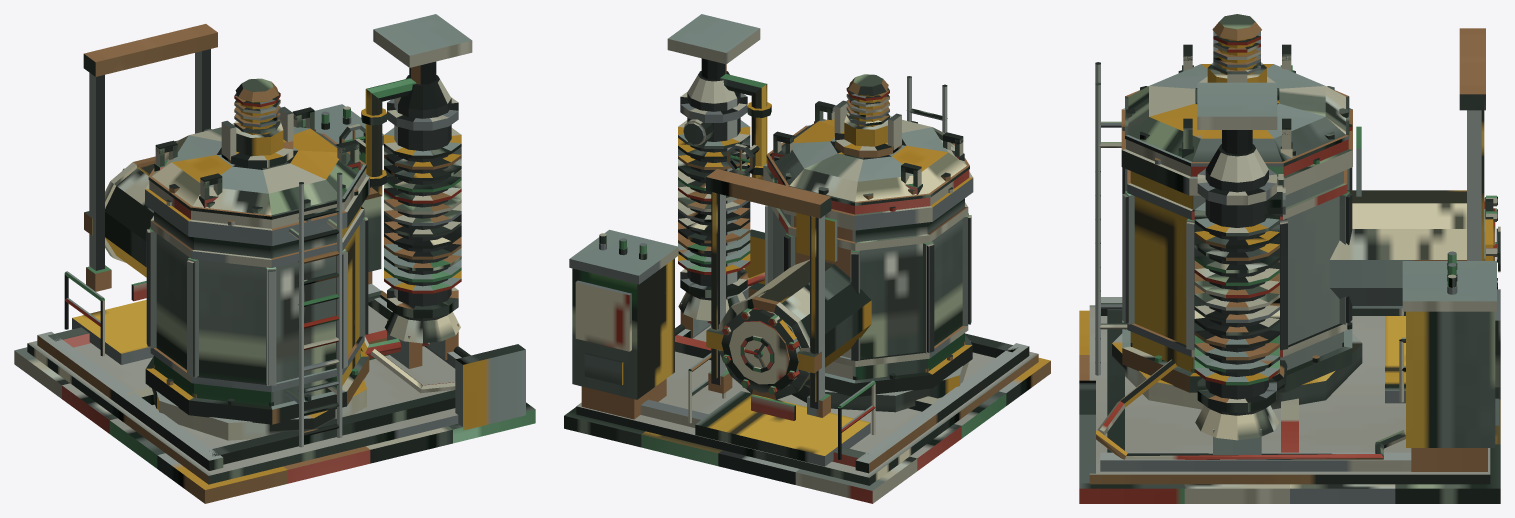
The model's file is irradiation_reactor_low_poly.obj.
3 views of the same model, side by side, from view 1: azimuth 30°, elevation 25°; view 2: azimuth 150°, elevation 25°; view 3: azimuth 270°, elevation 25° (orthographic). The views are drawn at different scales.
Visible parts, largest first — view 1: shield_rear, foundation, vessel_lid, bands_rear, cooling_tower, cooling_fins, base_frame, door_guides, access_ladder, ku_port, ribs_rear, loading_lock (+11 smaller); view 2: foundation, control_cabinet, vessel_lid, shield_front, door_guides, loading_lock, base_frame, service_deck, cooling_tower, cooling_fins, bands_front, door_panel (+19 smaller); view 3: foundation, control_cabinet, vessel_lid, cooling_tower, cooling_fins, loading_lock, shield_rear, base_frame, shield_front, bands_rear, door_guides, bands_front (+14 smaller).
Boxes of the visible parts, x1=… form: shield_rear: x1=154, y1=207, x2=360, y2=405; foundation: x1=14, y1=305, x2=535, y2=503; vessel_lid: x1=148, y1=126, x2=366, y2=228; bands_rear: x1=145, y1=174, x2=369, y2=424; cooling_tower: x1=384, y1=75, x2=460, y2=368; cooling_fins: x1=384, y1=127, x2=461, y2=293; base_frame: x1=37, y1=283, x2=461, y2=470; door_guides: x1=83, y1=24, x2=217, y2=291; access_ladder: x1=284, y1=172, x2=342, y2=447; ku_port: x1=455, y1=344, x2=525, y2=430; ribs_rear: x1=187, y1=217, x2=368, y2=385; loading_lock: x1=105, y1=156, x2=155, y2=277; foundation: x1=564, y1=325, x2=1050, y2=503; control_cabinet: x1=569, y1=229, x2=678, y2=419; vessel_lid: x1=766, y1=119, x2=969, y2=214; shield_front: x1=773, y1=209, x2=927, y2=379; door_guides: x1=706, y1=169, x2=831, y2=417; loading_lock: x1=718, y1=259, x2=871, y2=399; base_frame: x1=640, y1=277, x2=1029, y2=473; service_deck: x1=695, y1=391, x2=870, y2=466; cooling_tower: x1=678, y1=71, x2=747, y2=336; cooling_fins: x1=678, y1=120, x2=750, y2=274; bands_front: x1=763, y1=166, x2=932, y2=396; door_panel: x1=706, y1=309, x2=821, y2=392; foundation: x1=1079, y1=305, x2=1500, y2=503; control_cabinet: x1=1402, y1=261, x2=1496, y2=471; vessel_lid: x1=1125, y1=64, x2=1349, y2=176; cooling_tower: x1=1195, y1=144, x2=1279, y2=454; cooling_fins: x1=1194, y1=202, x2=1279, y2=385; loading_lock: x1=1330, y1=190, x2=1485, y2=308; shield_rear: x1=1130, y1=171, x2=1281, y2=372; base_frame: x1=1100, y1=297, x2=1411, y2=471; shield_front: x1=1281, y1=171, x2=1343, y2=370; bands_rear: x1=1121, y1=108, x2=1285, y2=392; door_guides: x1=1459, y1=28, x2=1485, y2=260; bands_front: x1=1283, y1=108, x2=1352, y2=392.
Size of the model in its own units: 4 by 4 by 4.
Materials: 1 (1 with a texture image).
